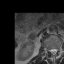CCS_normal: (52, 46, 54, 56)
LFS_normal: (57, 45, 59, 53)
LLS_normal: (54, 45, 57, 55)
RFS_normal: (47, 46, 50, 53)
RLS_normal: (50, 46, 52, 55)
